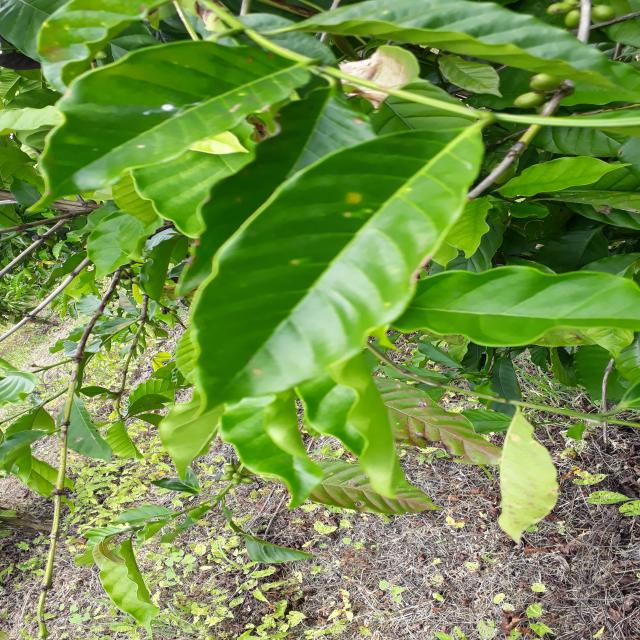Enfermedad-Roya: (182, 123, 474, 423)
